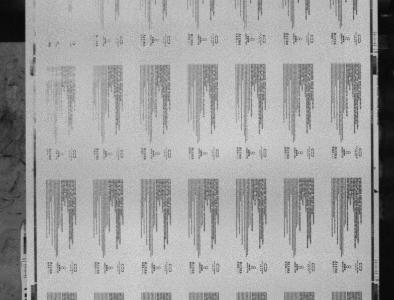backgroundclutter: (24, 287, 27, 290)
